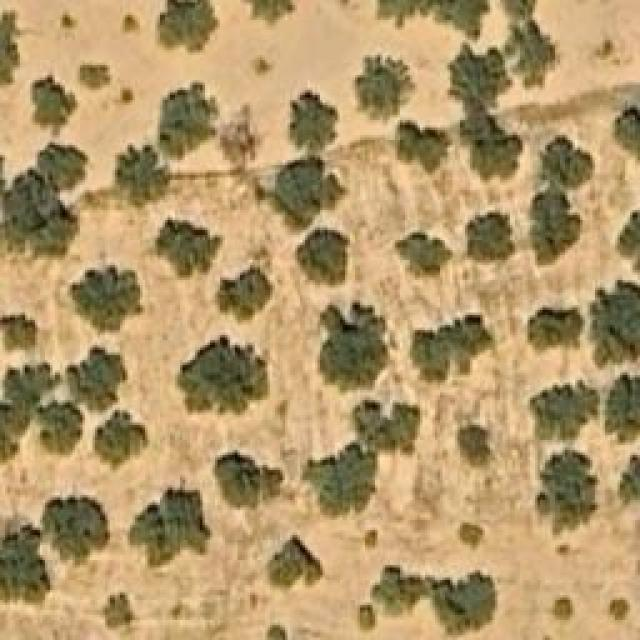Tree: (175, 335, 270, 415), (130, 488, 210, 571), (3, 170, 77, 253), (410, 315, 493, 385), (320, 303, 388, 388), (535, 447, 598, 535), (304, 442, 378, 515), (37, 488, 107, 561), (428, 565, 503, 633), (158, 80, 221, 158), (270, 160, 340, 230), (143, 218, 223, 278), (70, 268, 143, 331), (590, 278, 640, 366), (450, 43, 509, 117), (348, 398, 428, 452), (460, 115, 523, 183), (0, 525, 52, 605), (215, 450, 283, 510), (530, 380, 600, 438), (67, 348, 125, 410), (367, 558, 425, 620), (503, 20, 555, 88), (530, 190, 581, 259), (355, 55, 413, 113), (215, 268, 275, 323), (95, 412, 148, 470), (300, 232, 353, 290), (118, 145, 173, 200), (468, 210, 520, 268), (158, 0, 218, 50), (30, 72, 78, 130), (398, 118, 448, 173), (35, 403, 87, 454), (273, 533, 323, 586), (395, 233, 453, 278), (290, 98, 338, 151), (528, 305, 581, 353), (605, 373, 640, 443), (543, 135, 591, 185), (612, 88, 640, 163), (92, 593, 140, 636), (435, 0, 491, 34), (233, 0, 306, 25), (40, 145, 83, 185), (378, 0, 438, 27), (617, 207, 640, 276), (0, 13, 20, 86), (0, 313, 38, 348), (620, 453, 640, 518), (455, 515, 486, 549), (460, 425, 490, 460), (78, 65, 113, 90), (547, 598, 575, 623), (245, 55, 275, 78), (265, 625, 310, 640), (608, 598, 631, 623), (122, 13, 140, 33), (120, 87, 135, 105)
